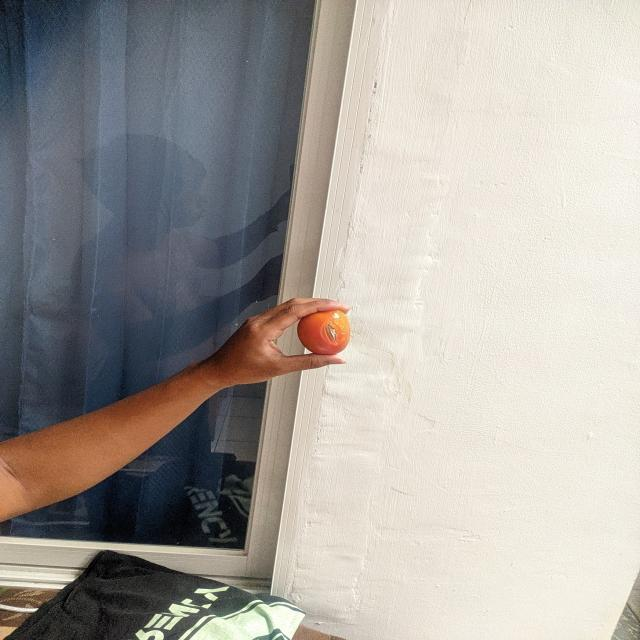Rotten Tomato: (297, 309, 352, 355)
